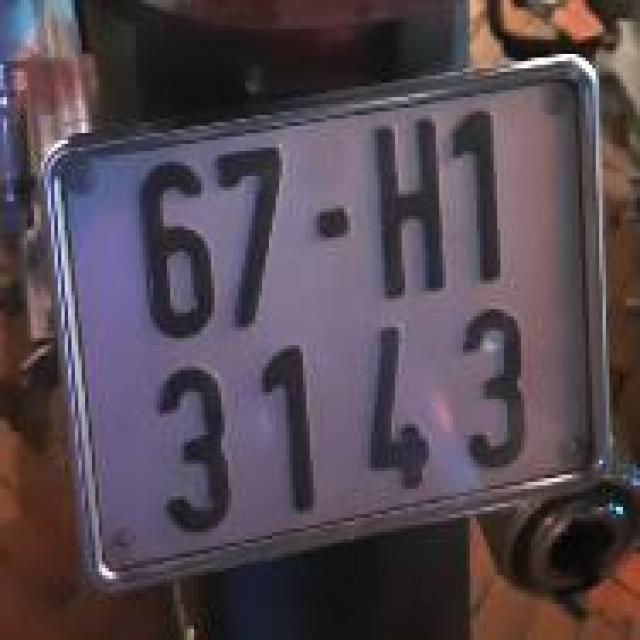1: (244, 338, 336, 518), (442, 104, 528, 295)
3: (146, 352, 238, 536), (455, 304, 536, 484)
4: (361, 313, 442, 503)
6: (123, 156, 221, 336)
7: (208, 140, 303, 331)
H: (364, 111, 456, 302)
